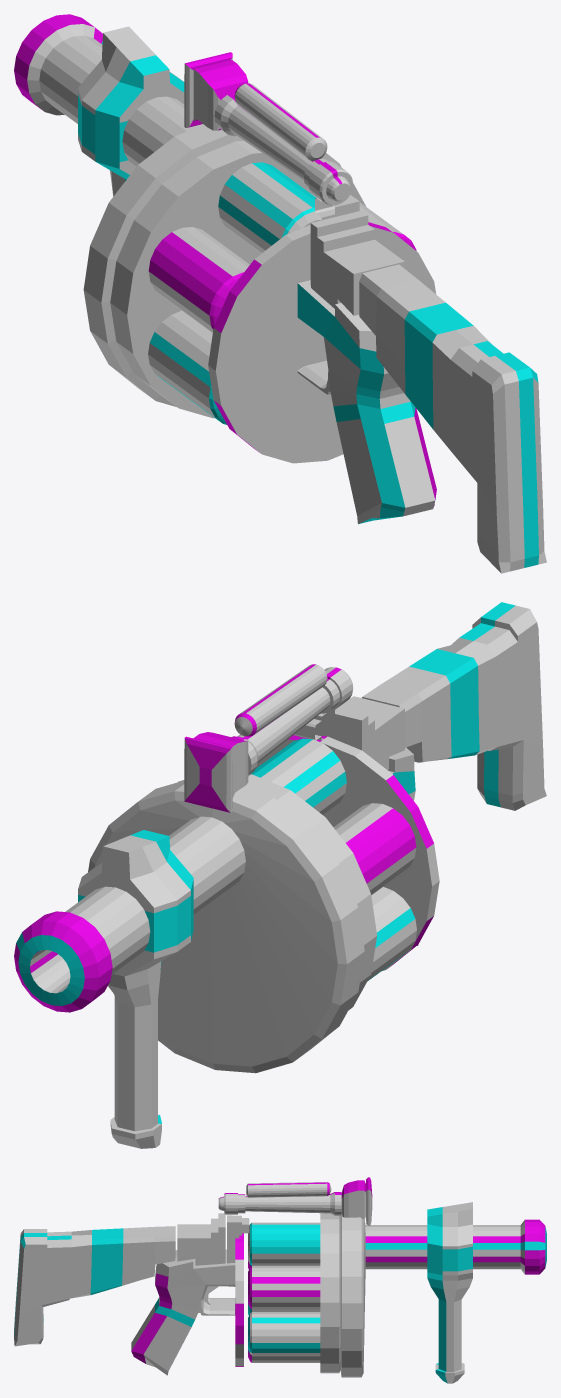
Rendered from launcher.fbx.
The picture shows the model from 3 angles, top to bottom: view 1: azimuth 30°, elevation 25°; view 2: azimuth 150°, elevation 25°; view 3: azimuth 270°, elevation 25°; orthographic projection. The views are drawn at different scales.
Parts seen in each view (by area): view 1: Clip, Support, Parts, Barrel, TriggerGrip, MainSight, FrontGrip, IronSights; view 2: Barrel, Support, FrontGrip, Clip, MainSight, Parts, IronSights, TriggerGrip; view 3: Clip, Support, Barrel, TriggerGrip, FrontGrip, MainSight, IronSights, Parts.
Boxes of the visible parts, left/top/right/bottom form: Clip: left=110, top=140, right=416, bottom=424; Support: left=359, top=264, right=546, bottom=573; Parts: left=208, top=195, right=435, bottom=463; Barrel: left=14, top=14, right=341, bottom=406; TriggerGrip: left=297, top=280, right=436, bottom=524; MainSight: left=184, top=52, right=353, bottom=205; FrontGrip: left=78, top=26, right=184, bottom=196; IronSights: left=310, top=210, right=404, bottom=315; Barrel: left=14, top=780, right=364, bottom=1073; Support: left=362, top=602, right=546, bottom=810; FrontGrip: left=78, top=830, right=193, bottom=1148; Clip: left=178, top=738, right=416, bottom=1010; MainSight: left=184, top=664, right=353, bottom=812; Parts: left=255, top=710, right=439, bottom=970; IronSights: left=335, top=696, right=404, bottom=769; TriggerGrip: left=388, top=747, right=418, bottom=945; Clip: left=248, top=1213, right=340, bottom=1373; Support: left=14, top=1226, right=175, bottom=1346; Barrel: left=340, top=1213, right=546, bottom=1377; TriggerGrip: left=131, top=1249, right=235, bottom=1375; FrontGrip: left=427, top=1202, right=472, bottom=1383; MainSight: left=218, top=1177, right=372, bottom=1225; IronSights: left=177, top=1213, right=225, bottom=1265; Parts: left=227, top=1215, right=249, bottom=1366.
Bounding box in the file's own units: 243 × 307 × 759.
